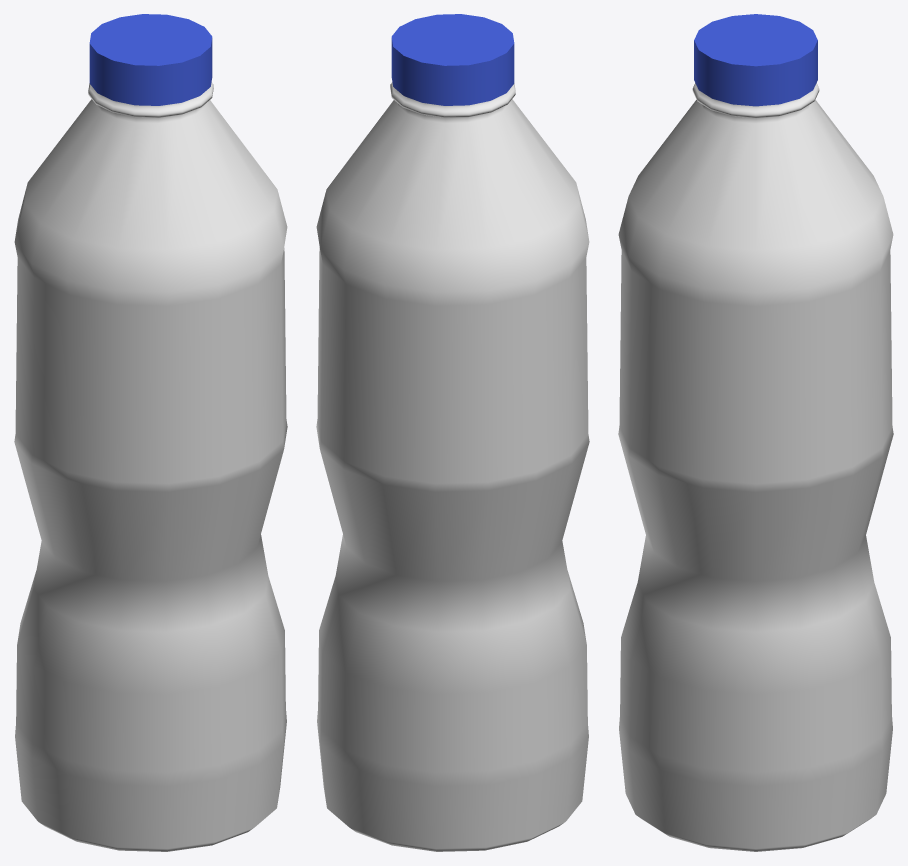
File: AguaAgua.fbx
3 renders of one model, left to right at view 1: azimuth 30°, elevation 25°; view 2: azimuth 150°, elevation 25°; view 3: azimuth 270°, elevation 25°, orthographic.
Parts seen in each view (by area): view 1: agua_lp.001, agua_lp.002; view 2: agua_lp.001, agua_lp.002; view 3: agua_lp.001, agua_lp.002.
Part boxes in pixels (x1=…): agua_lp.001: x1=14, y1=82, x2=287, y2=851; agua_lp.002: x1=89, y1=14, x2=212, y2=105; agua_lp.001: x1=316, y1=82, x2=589, y2=851; agua_lp.002: x1=391, y1=14, x2=514, y2=105; agua_lp.001: x1=618, y1=83, x2=893, y2=851; agua_lp.002: x1=694, y1=14, x2=817, y2=106.
Size of the model in its own units: 146 by 445 by 146.
